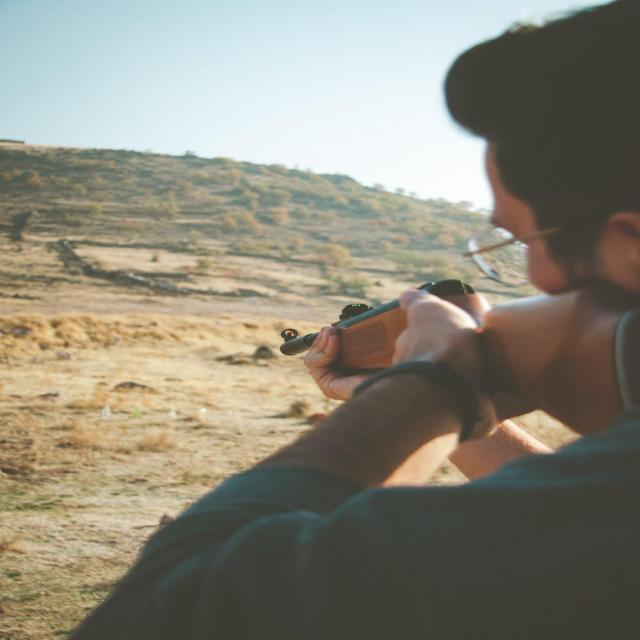weapon: (278, 277, 640, 438)
